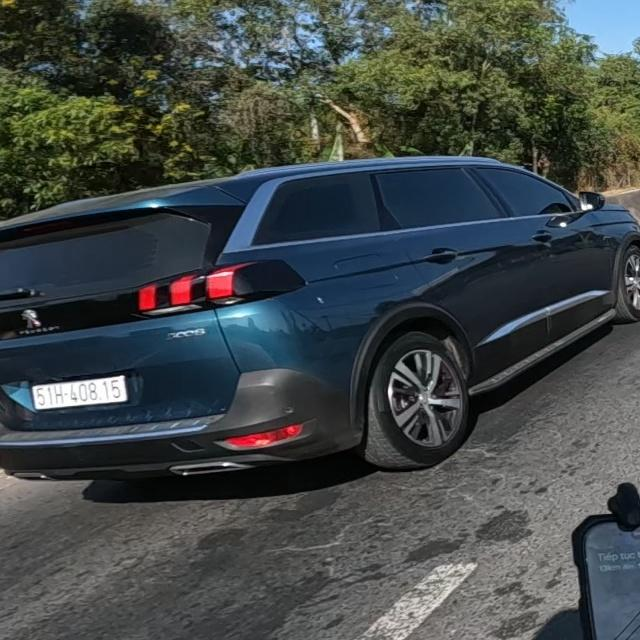license-plate: (31, 377, 128, 410)
